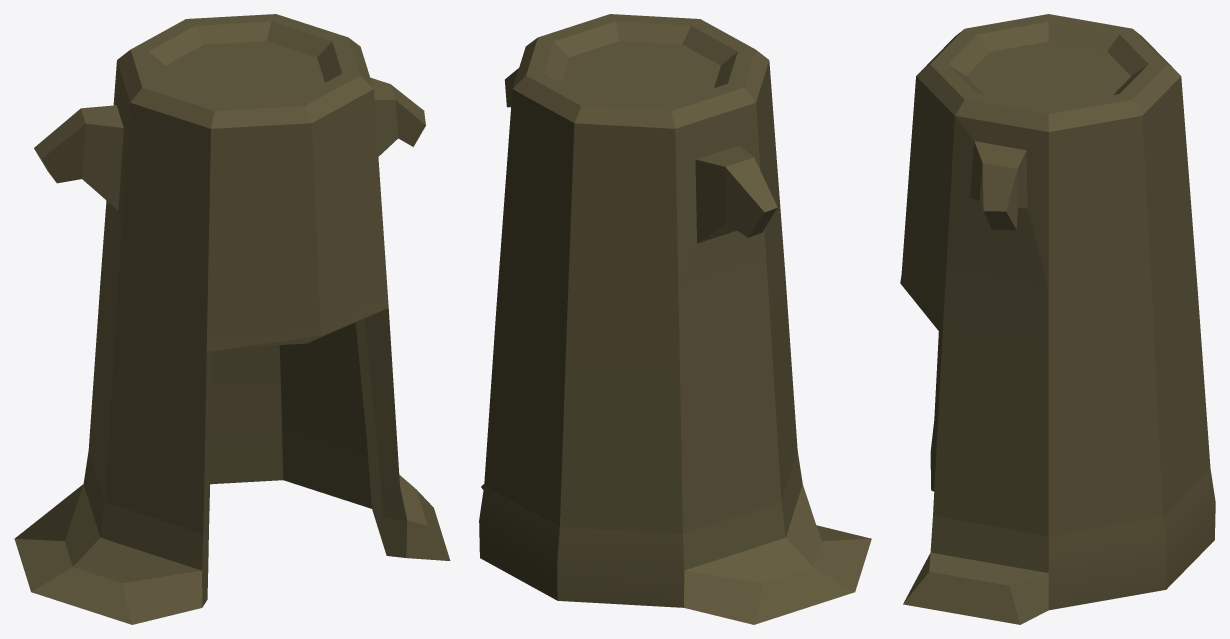
Rendered from Arbol escondite sin hojas.fbx.
The picture shows the model from 3 angles, left to right: view 1: azimuth 30°, elevation 25°; view 2: azimuth 150°, elevation 25°; view 3: azimuth 270°, elevation 25°; orthographic projection.
Visible parts, largest first — view 1: Tronco_escondite; view 2: Tronco_escondite; view 3: Tronco_escondite.
Boxes of the visible parts, left/top/right/bottom form: Tronco_escondite: left=14, top=14, right=450, bottom=624; Tronco_escondite: left=479, top=14, right=871, bottom=624; Tronco_escondite: left=900, top=14, right=1215, bottom=624.
Size of the model in its own units: 2.7 by 3.16 by 1.9.
